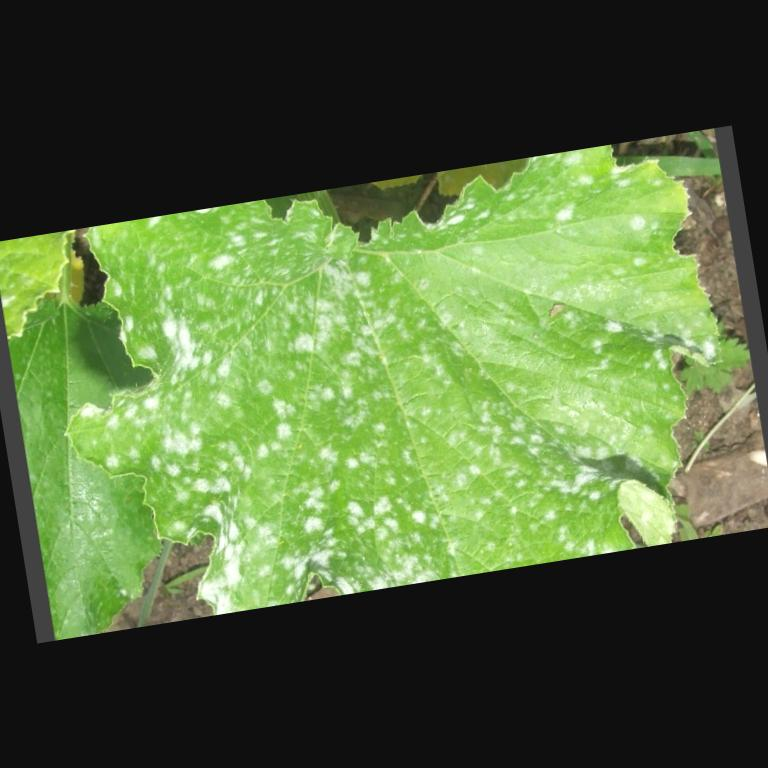powdery-mildew: (304, 412, 440, 574), (444, 379, 587, 530), (146, 374, 301, 504), (297, 253, 438, 381)
